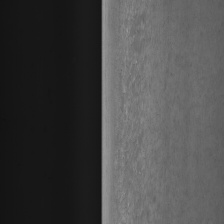silk_spot: (116, 15, 159, 212)
